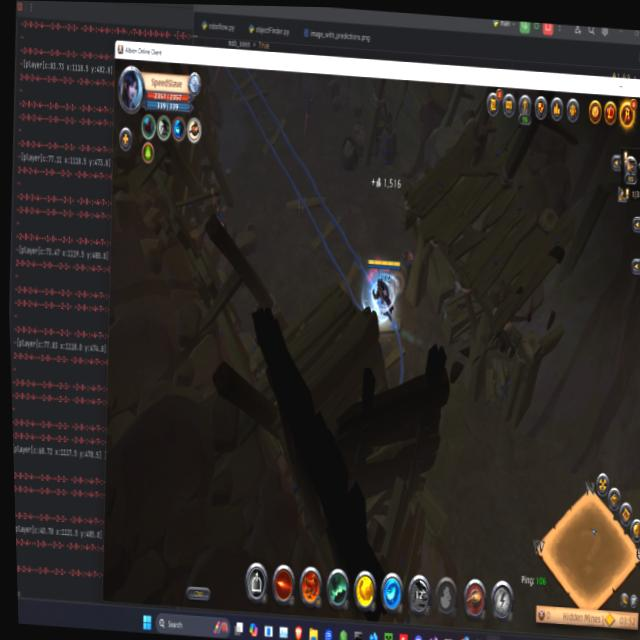ore: (296, 87, 321, 147)
red: (359, 251, 407, 329)
